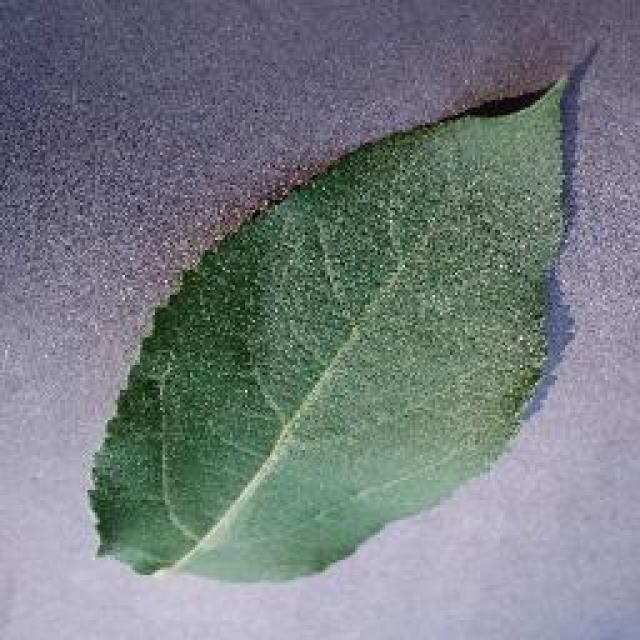apple healthy: (83, 63, 585, 585)
